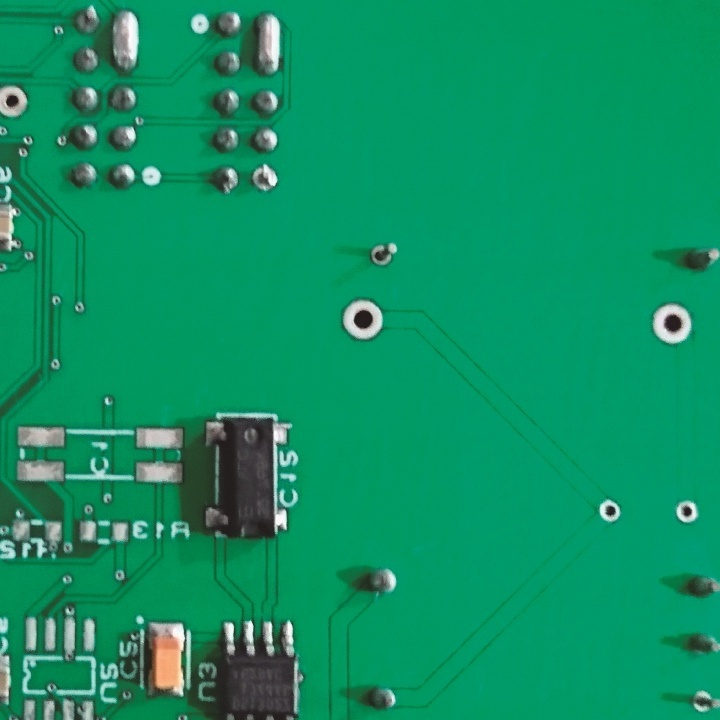F: (647, 300, 696, 345), (341, 295, 384, 343), (1, 82, 31, 123), (368, 238, 401, 275), (249, 162, 281, 194), (689, 687, 720, 720), (596, 497, 624, 525), (673, 499, 701, 526)
P: (109, 7, 145, 75), (250, 9, 284, 75)
